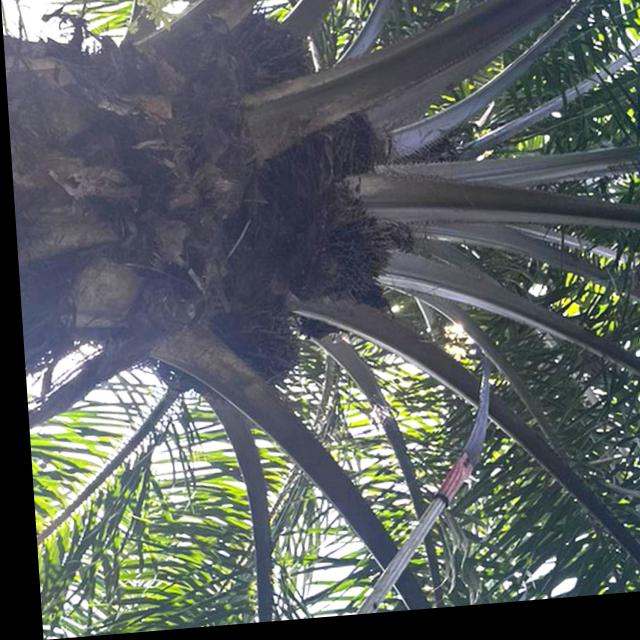unripe: (288, 202, 394, 319), (174, 321, 300, 406), (221, 7, 312, 106), (303, 117, 383, 198)
